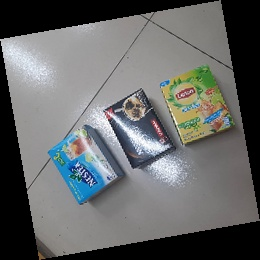CF pho: (103, 88, 176, 169)
LipTon: (160, 64, 236, 146)
Nestea: (45, 123, 124, 205)
